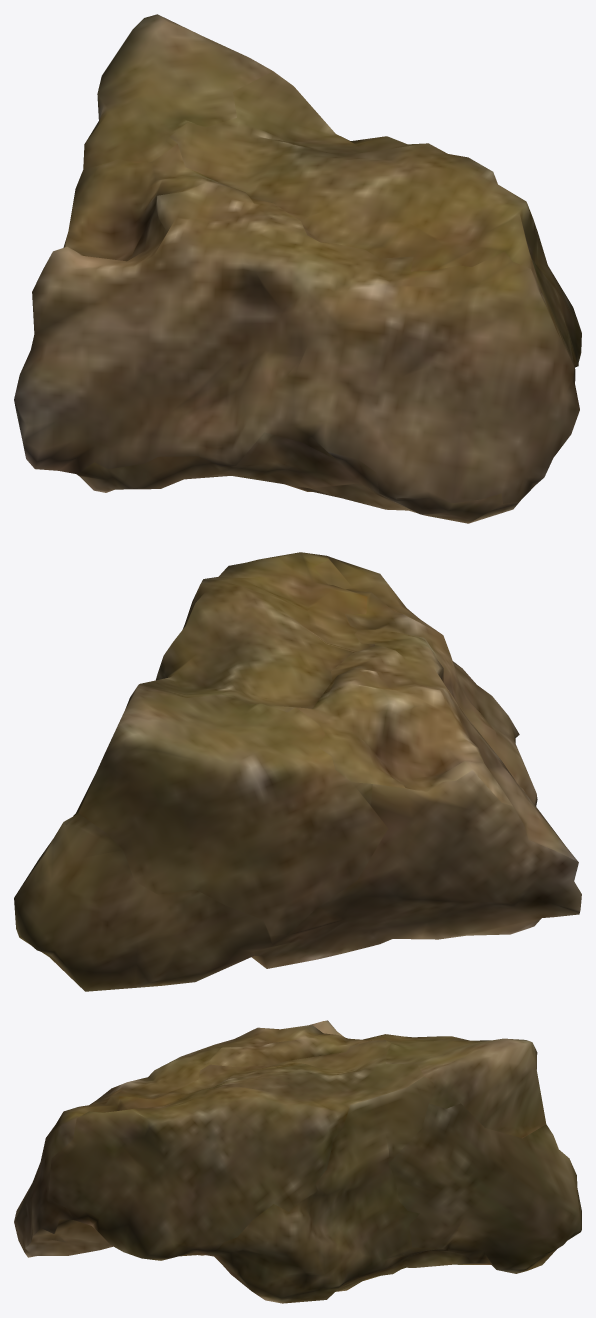
Rendered from rock_moss_set_01_5.glb.
3 renders of one model, top to bottom at view 1: azimuth 30°, elevation 25°; view 2: azimuth 150°, elevation 25°; view 3: azimuth 270°, elevation 25°, orthographic. The views are drawn at different scales.
Bounding box in the file's own units: 2.13 × 1.26 × 2.75.
1 material, 1 textured.
